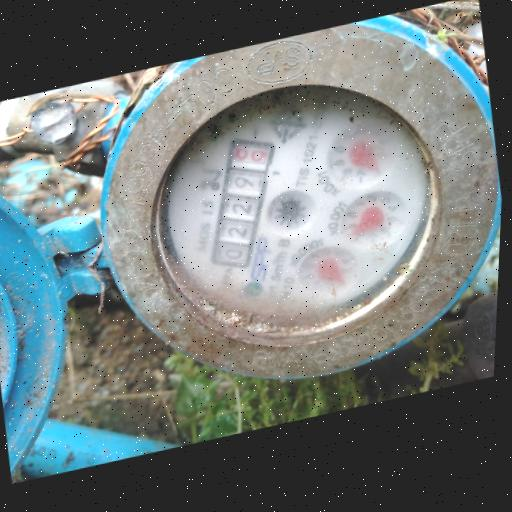0: (211, 236, 251, 270)
2: (214, 212, 257, 252), (219, 189, 261, 227)
9: (222, 162, 269, 205), (227, 136, 275, 178)
border_water_meter_number: (189, 126, 294, 279)
